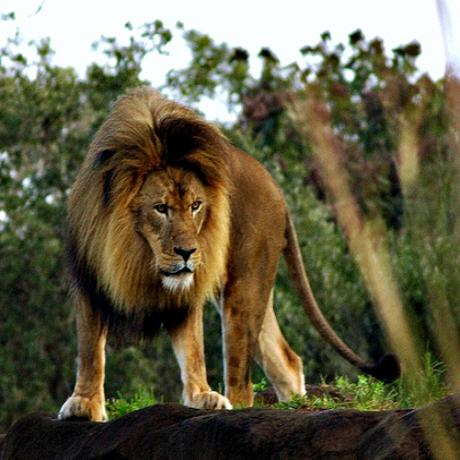Lion: (52, 87, 401, 425)
